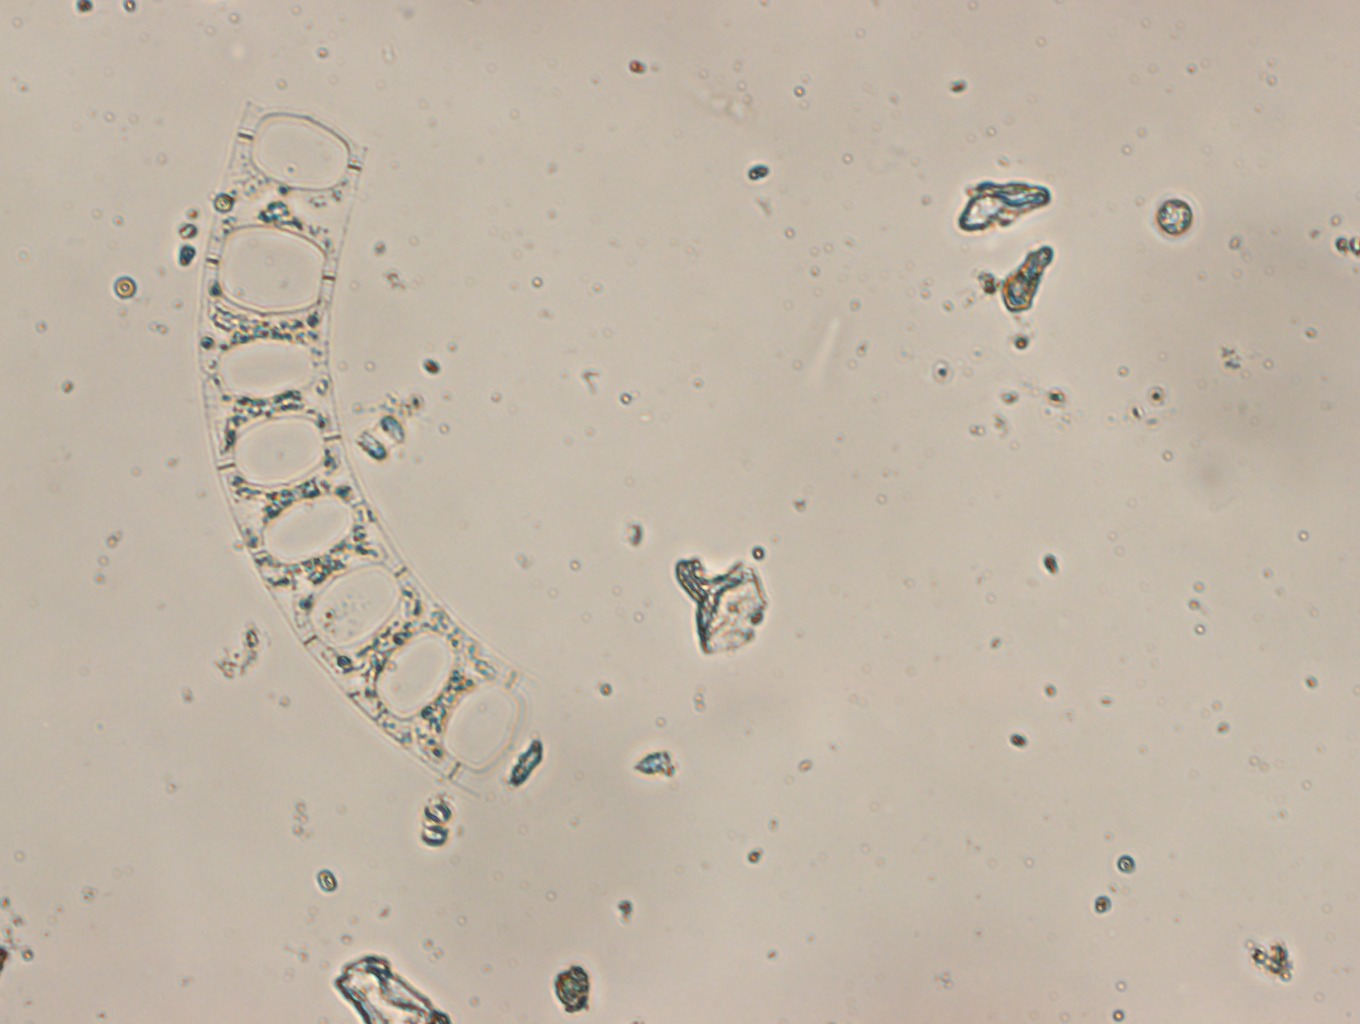eucampia: (196, 93, 535, 800)
